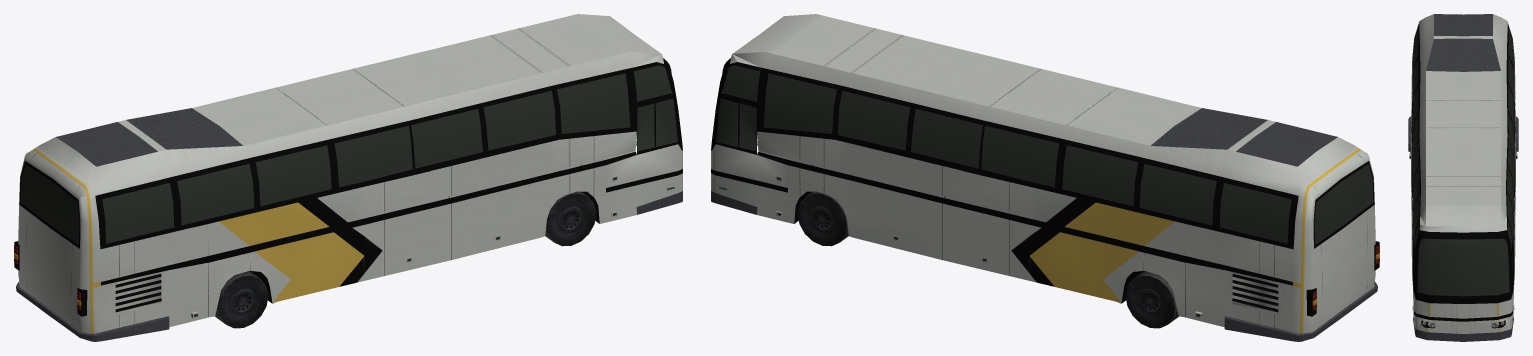
The picture shows the model from 3 angles, left to right: view 1: azimuth 30°, elevation 25°; view 2: azimuth 150°, elevation 25°; view 3: azimuth 270°, elevation 25°; orthographic projection. The views are drawn at different scales.
Visible parts, largest first — view 1: 19BUS; view 2: 19BUS; view 3: 19BUS.
Boxes of the visible parts, left/top/right/bottom form: 19BUS: left=14, top=14, right=682, bottom=341; 19BUS: left=711, top=14, right=1379, bottom=341; 19BUS: left=1408, top=14, right=1518, bottom=341.
Size of the model in its own units: 66.31 by 18.81 by 14.31.
Materials: 1 (1 with a texture image).
